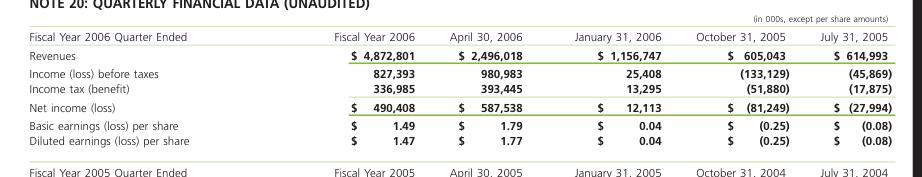table: (28, 29, 891, 146)
table column: (28, 29, 260, 146), (260, 29, 431, 146), (547, 29, 677, 146), (677, 29, 804, 146), (431, 29, 547, 146), (804, 29, 891, 146)
table column header: (28, 29, 891, 45)
table row: (28, 45, 891, 63), (28, 97, 891, 115), (28, 63, 891, 80), (28, 80, 891, 97), (28, 115, 891, 132), (28, 29, 891, 45), (28, 132, 891, 146)
